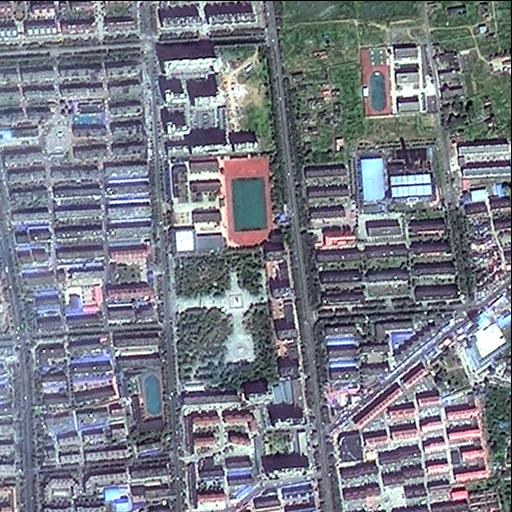school: (165, 152, 285, 256), (358, 41, 440, 123), (122, 365, 167, 438)
